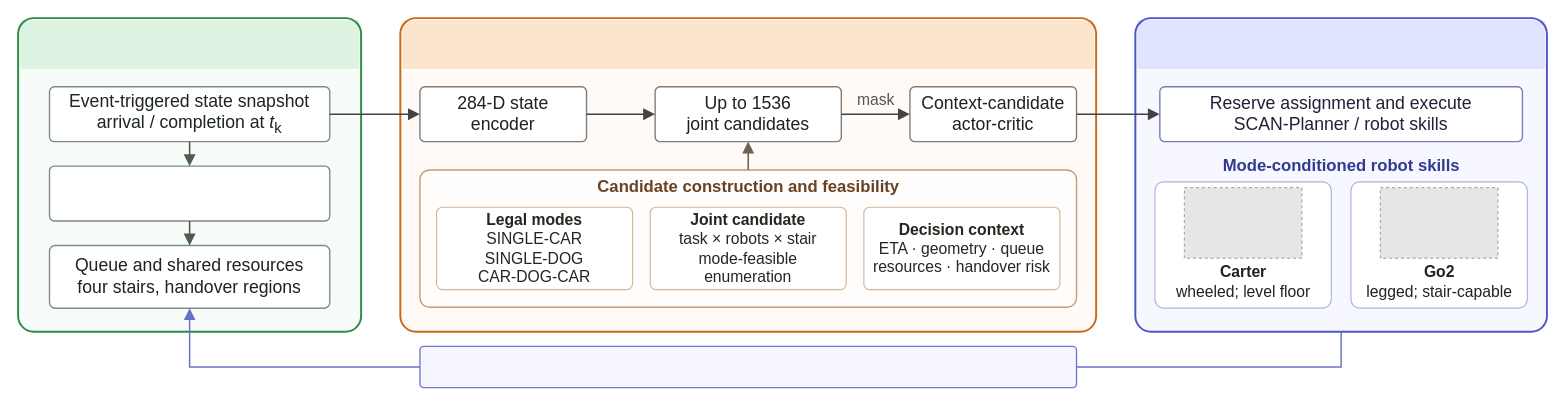
The diagram is 1564 pixels wide and 405 high, and some of its shapes have lost their labels. Grey dashed boxes stand in for pictures. The centre of each missing label's shape, as x and y in pixels:
"10-robot persistent fleet positions, loads, ownership" belongs at point 189,193.
"Event-driven masked SMDP-PPO" belongs at point 748,44.
"Execution interface" belongs at point 1340,44.
"Next-event update: positions, ownership, queue, and released reservations" belongs at point 748,366.
"Persistent environment" belongs at point 189,44.
